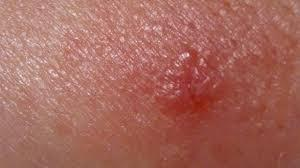Tick: (144, 36, 239, 135)
